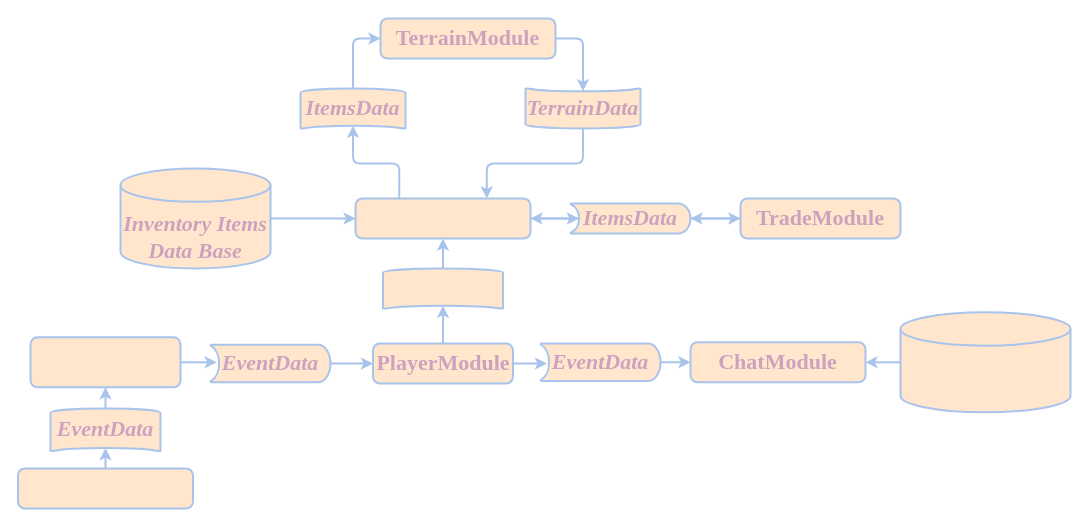
Some shapes in this 1089 by 526 pixel diagram are drawn without their labels. The centre of each missing label's shape, as x and y in pixels:
DayNightModule: the point at 105,488
MarkerData: the point at 443,288
NPC Description Data Base: the point at 985,362
SoundsModule: the point at 105,362
StorageModule: the point at 442,218
